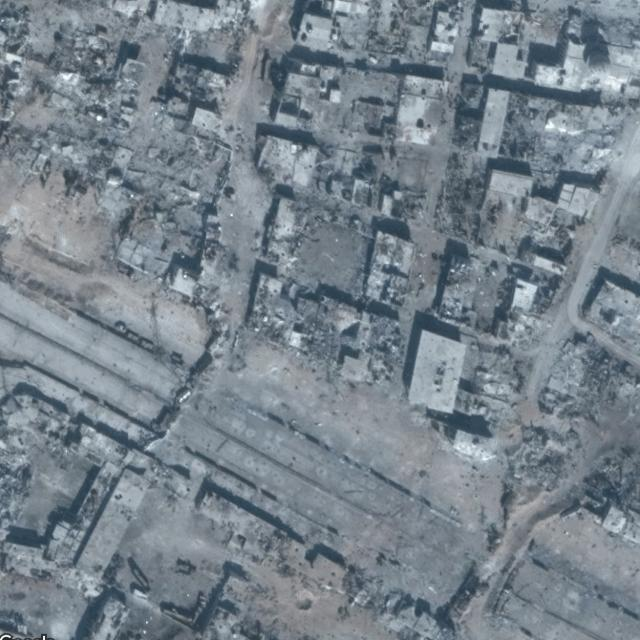damaged_building: (0, 0, 639, 594), (201, 535, 468, 639)
